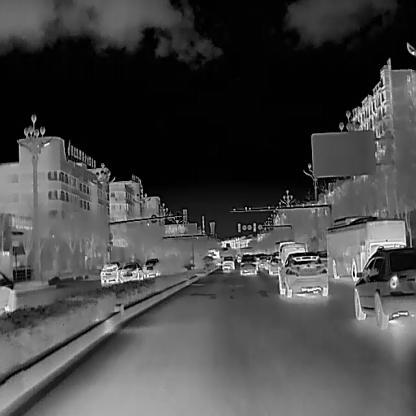car: (325, 214, 408, 282), (352, 245, 415, 331), (277, 252, 327, 297), (0, 270, 16, 315), (278, 243, 306, 262), (100, 261, 121, 284), (118, 261, 142, 280), (239, 253, 258, 276), (206, 247, 220, 271), (141, 258, 159, 276), (274, 240, 293, 253), (220, 255, 235, 271), (268, 252, 278, 275), (258, 253, 267, 268), (264, 254, 271, 270)
